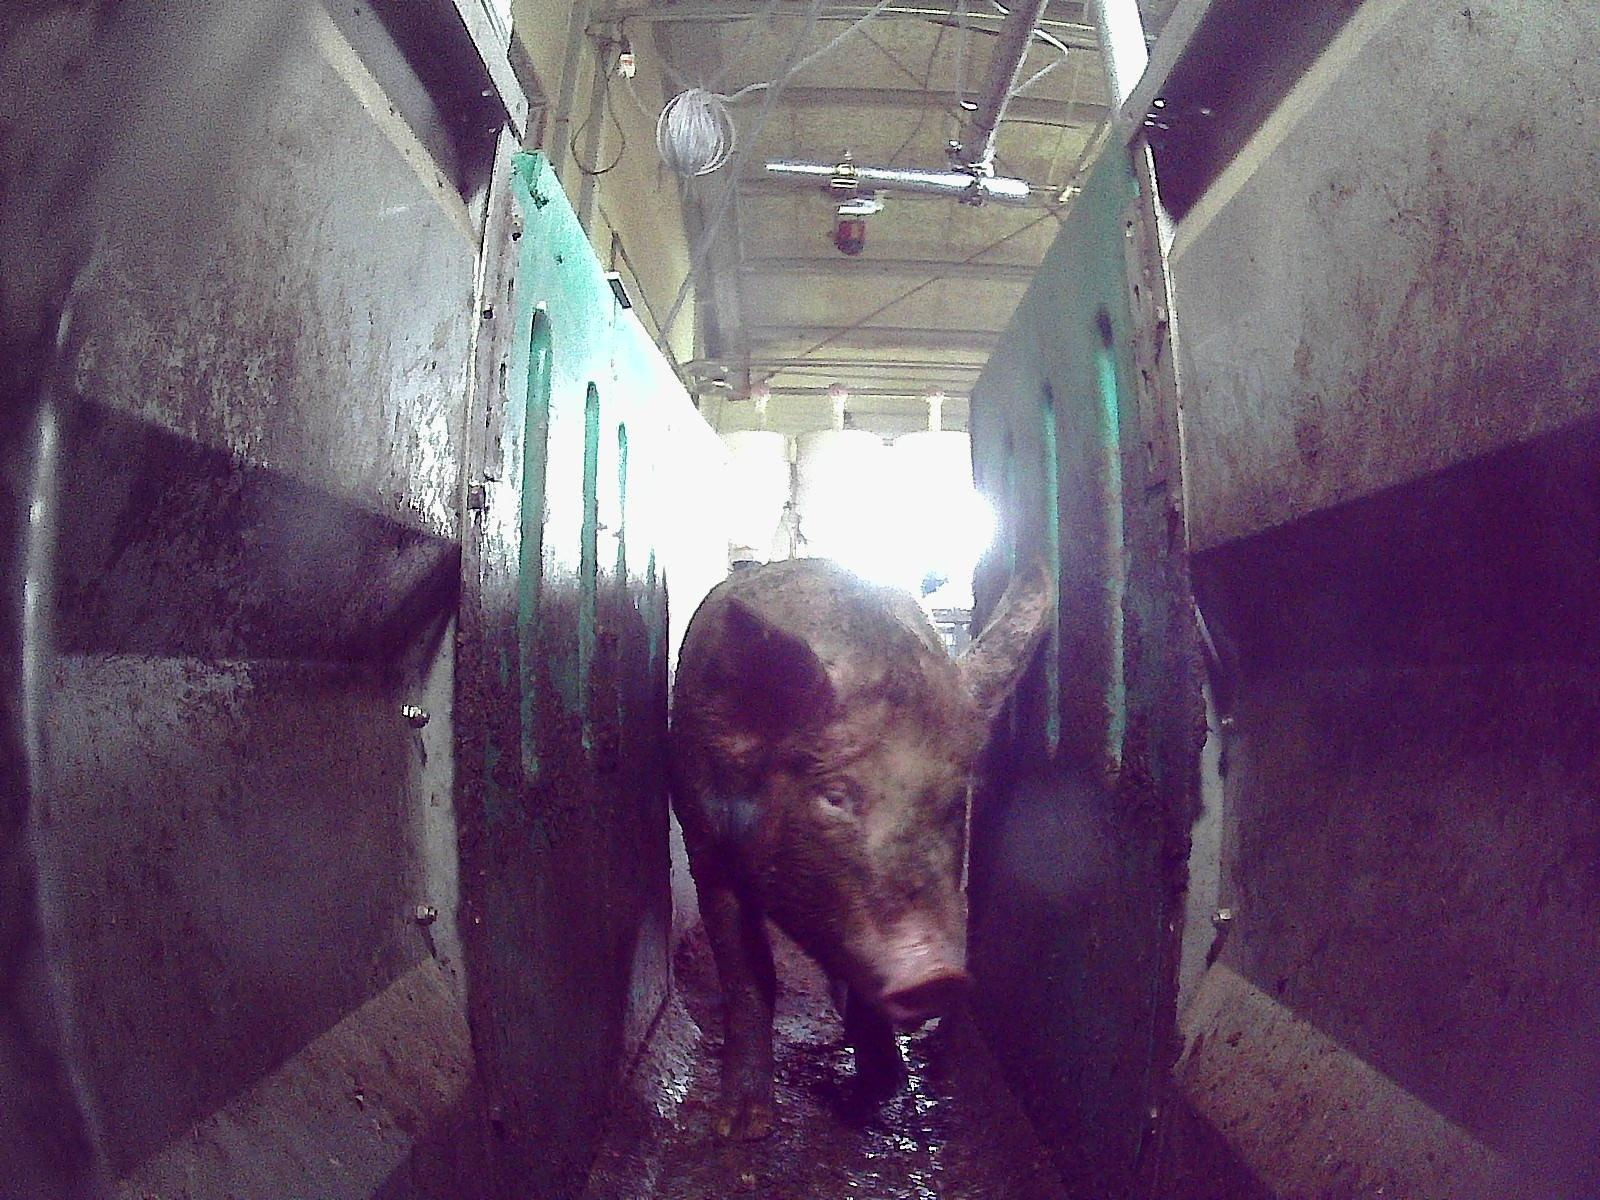Face: (769, 702, 973, 1023)
